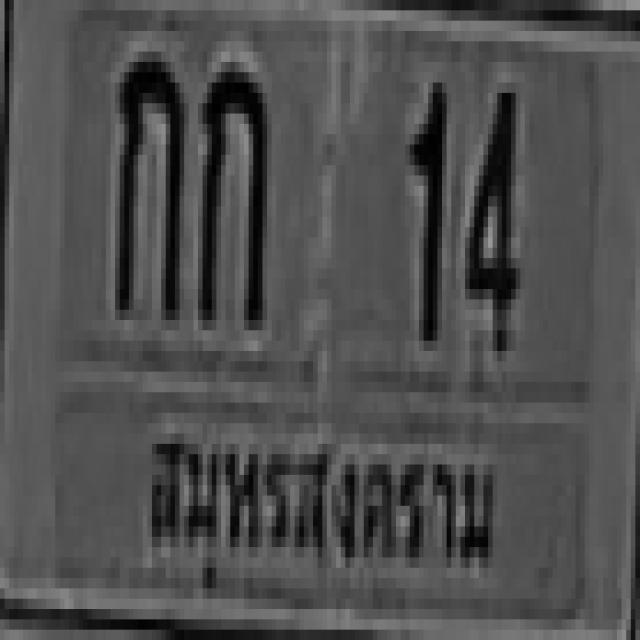1: (405, 72, 442, 330)
10GorGai: (110, 46, 180, 304), (196, 62, 264, 320)
4: (463, 77, 513, 346)
SamutSongkhram: (138, 399, 503, 584)
